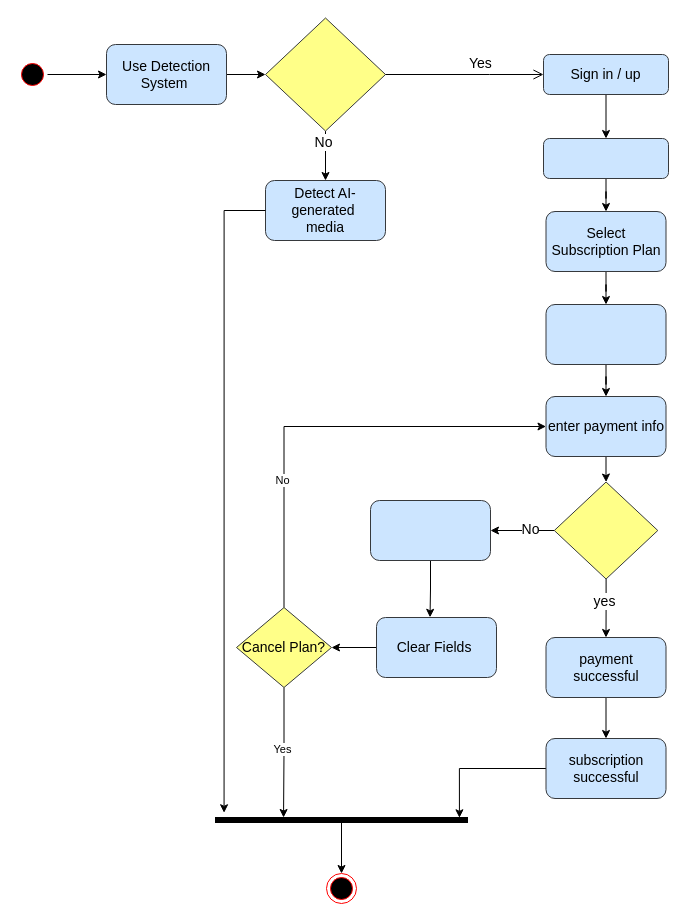
Some shapes in this 686 by 921 pixel diagram are drawn without their labels. Each missing label, with the centre of its shape:
"Error Message" goes at (430,530).
"Reach Limit of Free Use" goes at (325,74).
"Requirements Satisfied" goes at (605,530).
"Select Payment Method" goes at (605,334).
"Subscribe" goes at (605,158).
